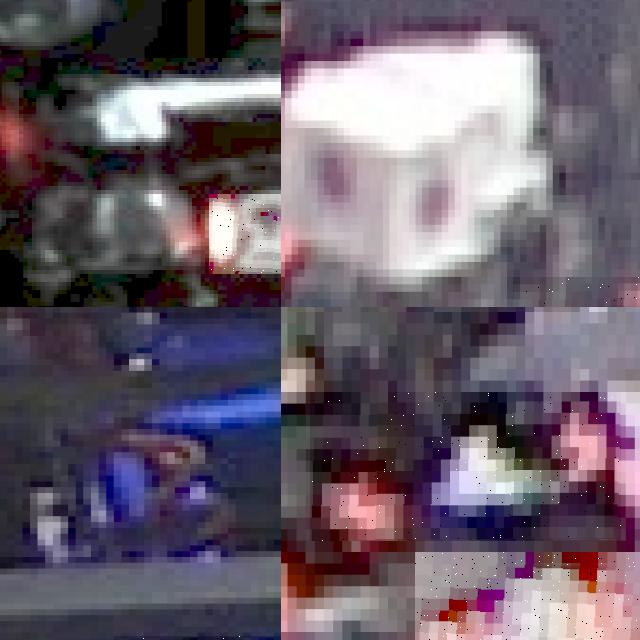R4: (310, 392, 621, 541), (415, 551, 640, 640)
Rs: (209, 194, 281, 274)
